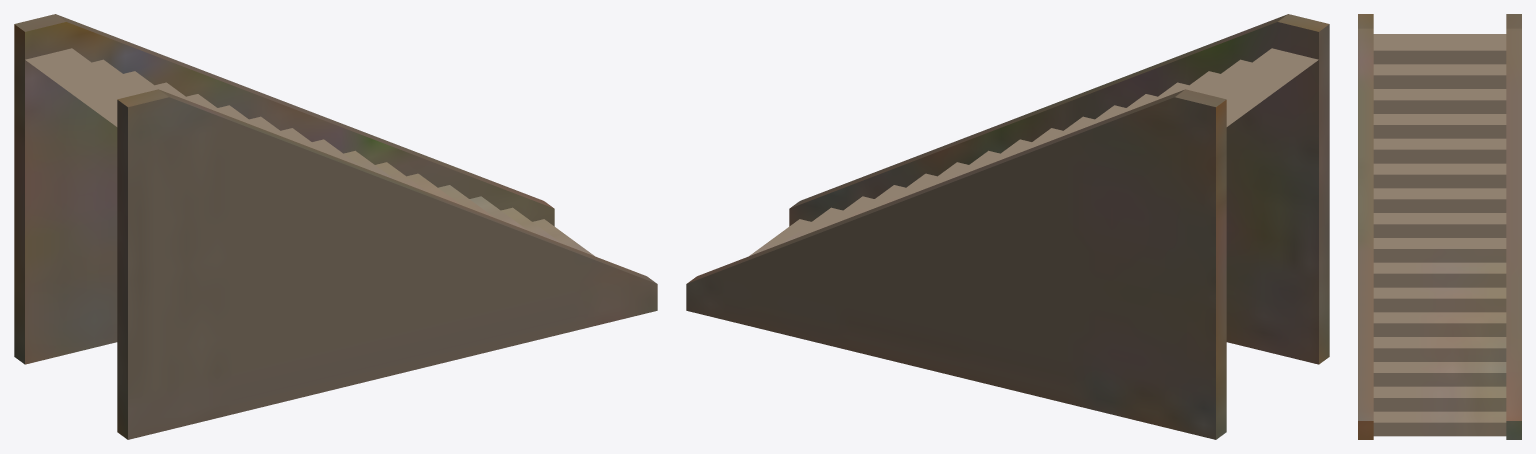
Rendered from mega-pack-plane-007.glb.
3 views of the same model, side by side, from view 1: azimuth 30°, elevation 25°; view 2: azimuth 150°, elevation 25°; view 3: azimuth 270°, elevation 25° (orthographic). The views are drawn at different scales.
Parts seen in each view (by area): view 1: Plane.007; view 2: Plane.007; view 3: Plane.007.
Boxes of the visible parts, x1,y1,x2,y2 form: Plane.007: [14, 14, 657, 439]; Plane.007: [686, 14, 1329, 439]; Plane.007: [1358, 14, 1521, 439].
Size of the model in its own units: 3.79 by 2.28 by 1.41.
Materials: 1 (1 with a texture image).
